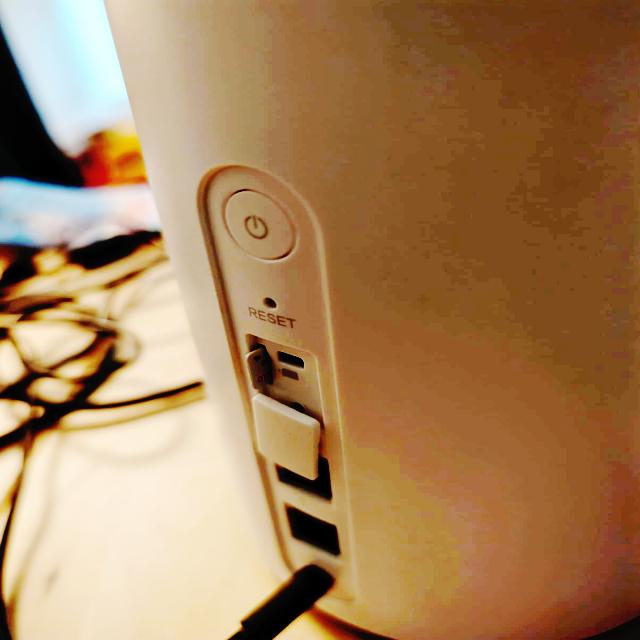modem: (96, 0, 640, 640)
onbutton: (222, 189, 299, 265)
